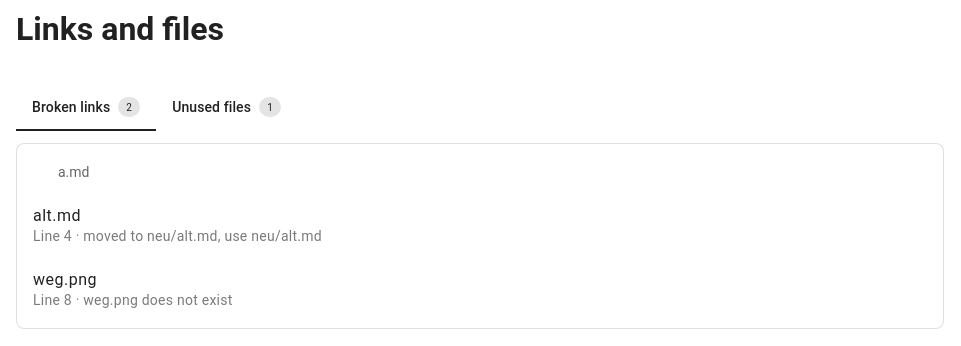
Scenario: ReferencesView › lists broken links with fixes and unused files
Click the tab with test id "tab-unused".
click(226, 107)  # box top-left (156, 83), bottom-right (297, 131)
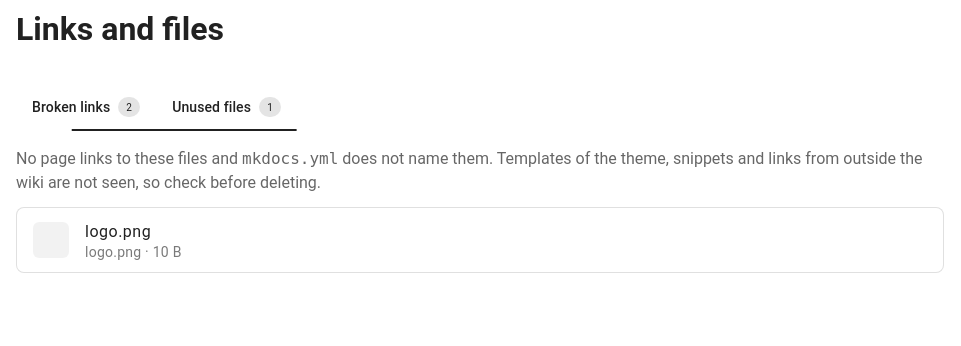
Check: the link with test id "unused-file" shows "logo.png · 10 B", box top-left (33, 222), bottom-right (182, 260)
